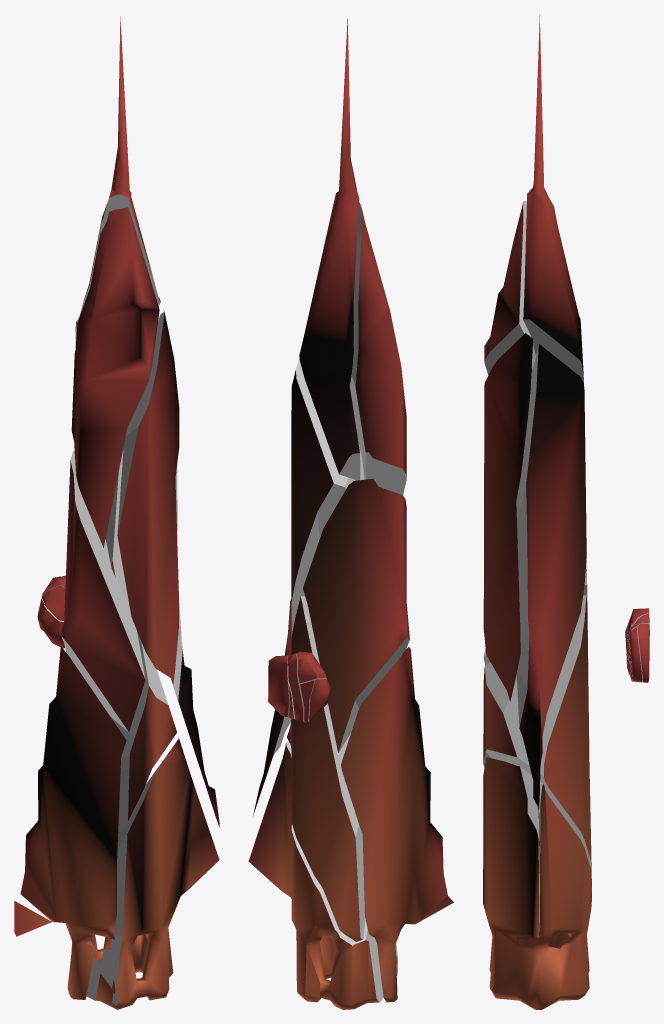
File: Cartoon Space Rockets.glb
3 views of the same model, side by side, from view 1: azimuth 30°, elevation 25°; view 2: azimuth 150°, elevation 25°; view 3: azimuth 270°, elevation 25° (orthographic).
Parts seen in each view (by area): view 1: Root.001, Root.003, Root.005, Root.007, Root.009, Root.013, Root.015, Root.011, Root, Root.004; view 2: Root.001, Root.009, Root.005, Root.013, Root.011, Root.003, Root.015, Root.006, Root, Root.010, Root.012; view 3: Root.015, Root.005, Root.007, Root.013, Root.011, Root.003, Root.006, Root.014.
Boxes of the visible parts, x1,y1,x2,y2 form: Root.001: (14, 646, 126, 999); Root.003: (71, 207, 159, 547); Root.005: (71, 738, 219, 1009); Root.007: (117, 311, 179, 684); Root.009: (61, 450, 145, 731); Root.013: (111, 631, 176, 836); Root.015: (105, 448, 219, 827); Root.011: (75, 16, 160, 345); Root: (37, 598, 64, 648); Root.004: (42, 585, 65, 620); Root.001: (341, 646, 453, 1002); Root.009: (303, 478, 409, 752); Root.005: (248, 740, 397, 1009); Root.013: (287, 596, 365, 941); Root.011: (299, 19, 360, 480); Root.003: (349, 202, 406, 494); Root.015: (253, 358, 364, 815); Root.006: (268, 655, 289, 716); Root: (308, 679, 330, 721); Root.010: (288, 653, 302, 721); Root.012: (295, 651, 316, 684); Root.015: (516, 344, 586, 872); Root.005: (483, 757, 591, 1009); Root.007: (483, 333, 533, 701); Root.013: (483, 595, 591, 892); Root.011: (523, 14, 583, 382); Root.003: (484, 201, 535, 374); Root.006: (638, 623, 649, 682); Root.014: (629, 626, 642, 682).
Bounding box in the file's own units: 1.38 × 6.24 × 0.9687.
